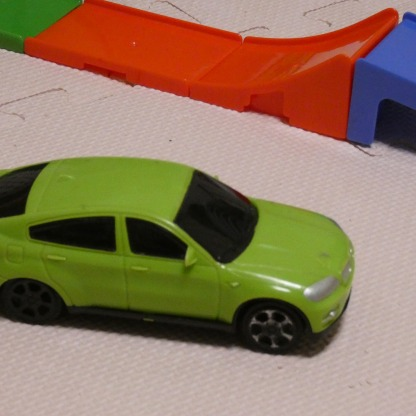car: (0, 156, 360, 359)
